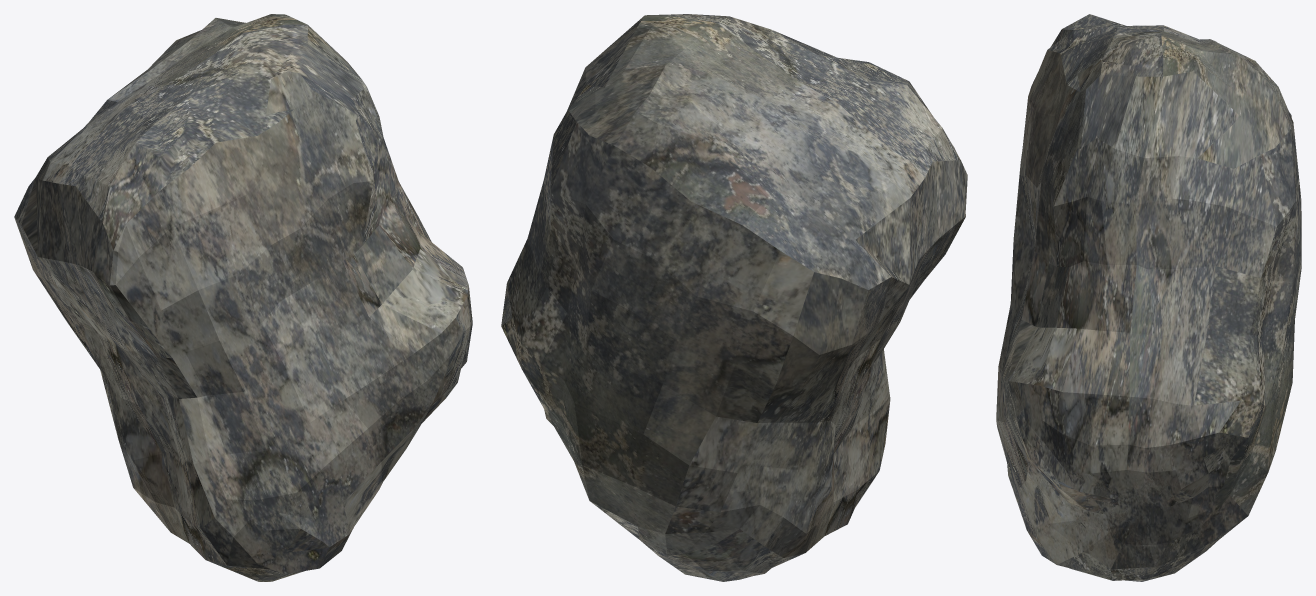
Rendered from metor3.fbx.
3 views of the same model, side by side, from view 1: azimuth 30°, elevation 25°; view 2: azimuth 150°, elevation 25°; view 3: azimuth 270°, elevation 25° (orthographic). The views are drawn at different scales.
Visible parts, largest first — view 1: Cube; view 2: Cube; view 3: Cube.
Part boxes in pixels (x1,y1,x2,y2): Cube: [14, 14, 472, 581]; Cube: [501, 14, 967, 581]; Cube: [996, 14, 1301, 581].
Bounding box in the file's own units: 2.3 × 3.02 × 1.56.
